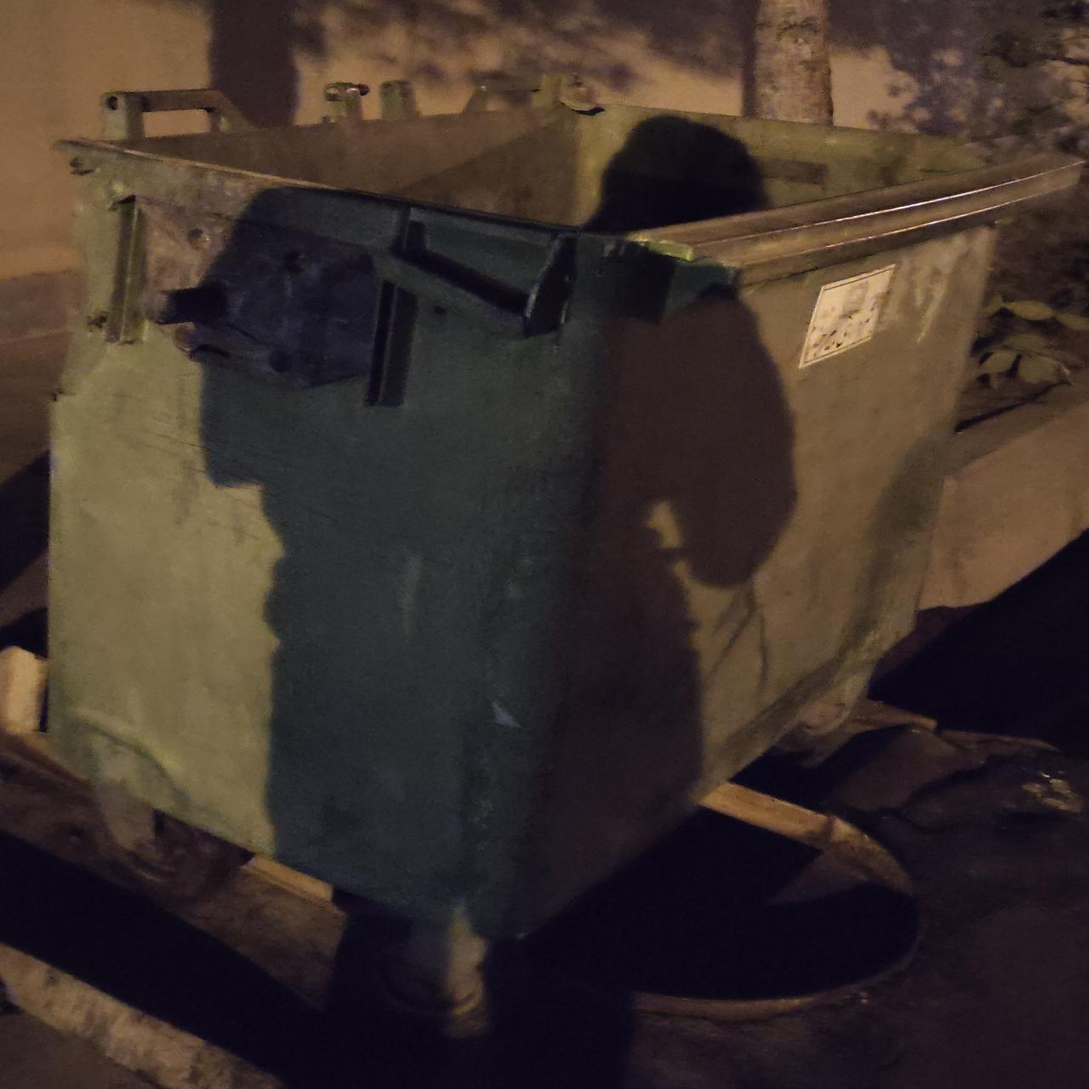bin_empty: (48, 104, 1076, 1012)
